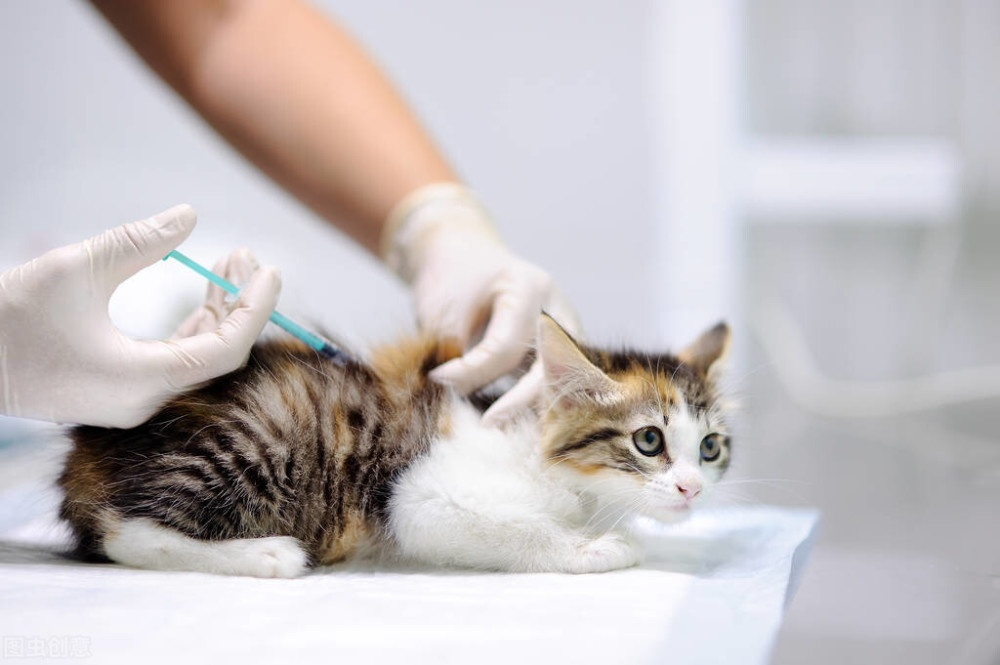cat: (51, 303, 740, 582)
